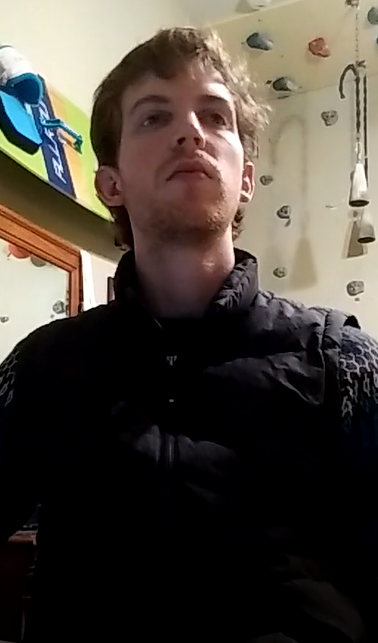Not Sleeping: (125, 95, 238, 139)
